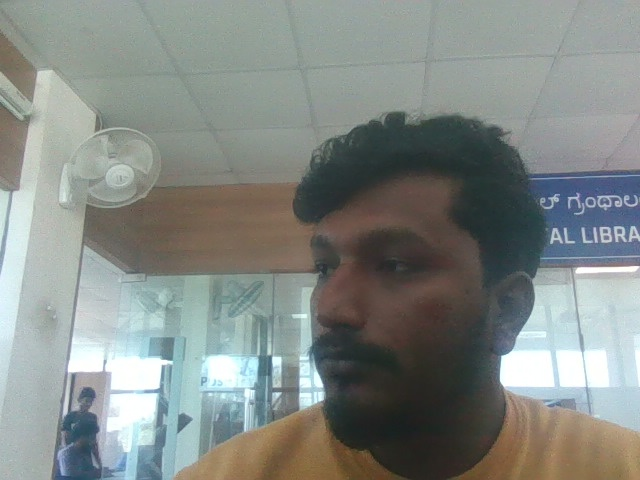real: (276, 83, 525, 436)
